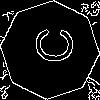C: (25, 25, 74, 65)
